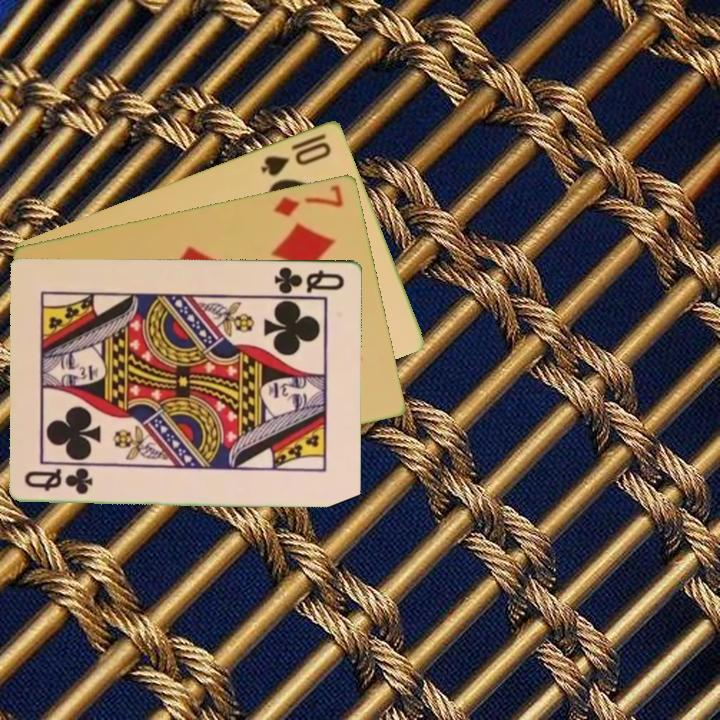10s: (257, 129, 334, 179)
7d: (271, 181, 347, 219)
Qc: (271, 263, 347, 296), (21, 467, 96, 497)
